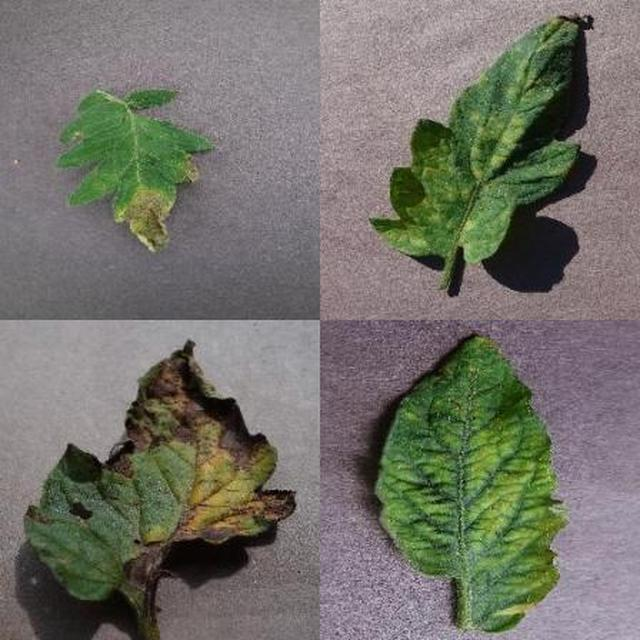Late Blight Leaf: (193, 199, 640, 640)
